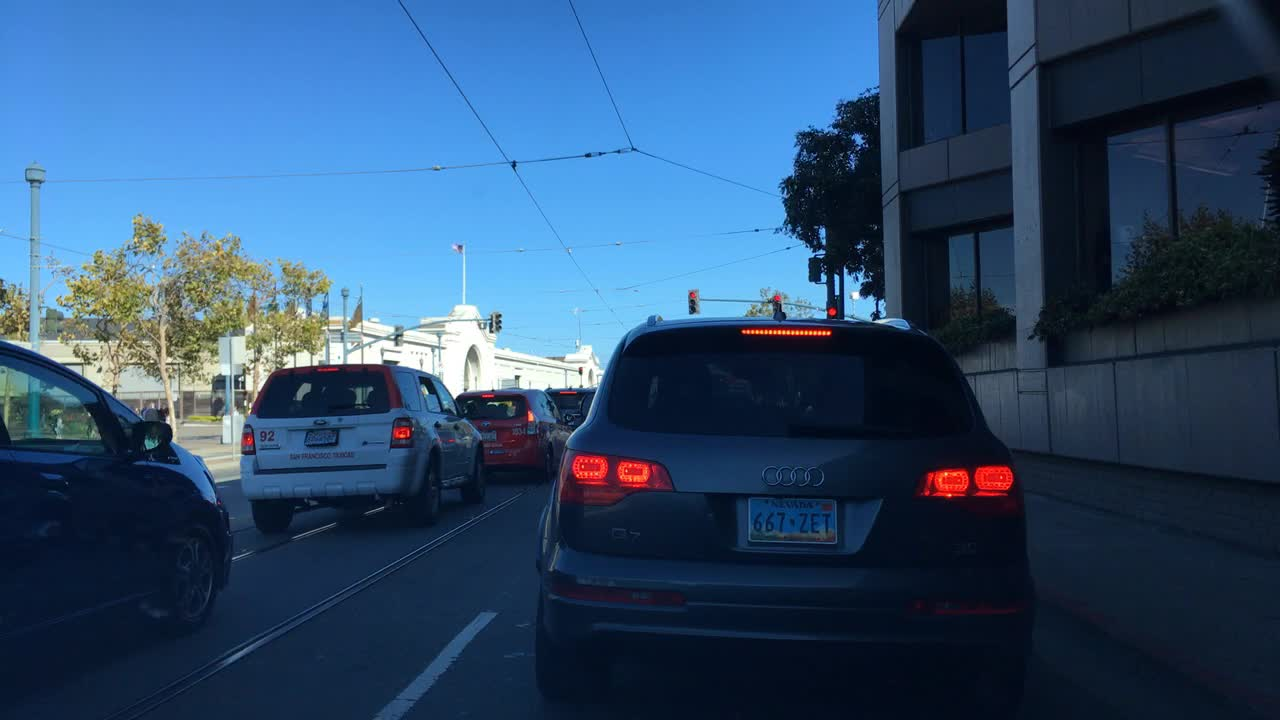car: (534, 315, 1037, 719), (0, 336, 231, 653), (240, 360, 488, 533), (452, 390, 567, 481), (548, 387, 595, 432)
traffic light: (686, 289, 698, 317), (826, 297, 840, 320), (770, 294, 782, 320), (492, 311, 504, 334), (394, 325, 404, 348), (487, 315, 495, 336), (576, 362, 583, 376)
traffic sign: (219, 334, 245, 362), (221, 418, 238, 444)
